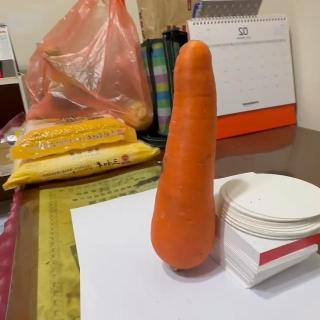carrot: (150, 39, 218, 272)
